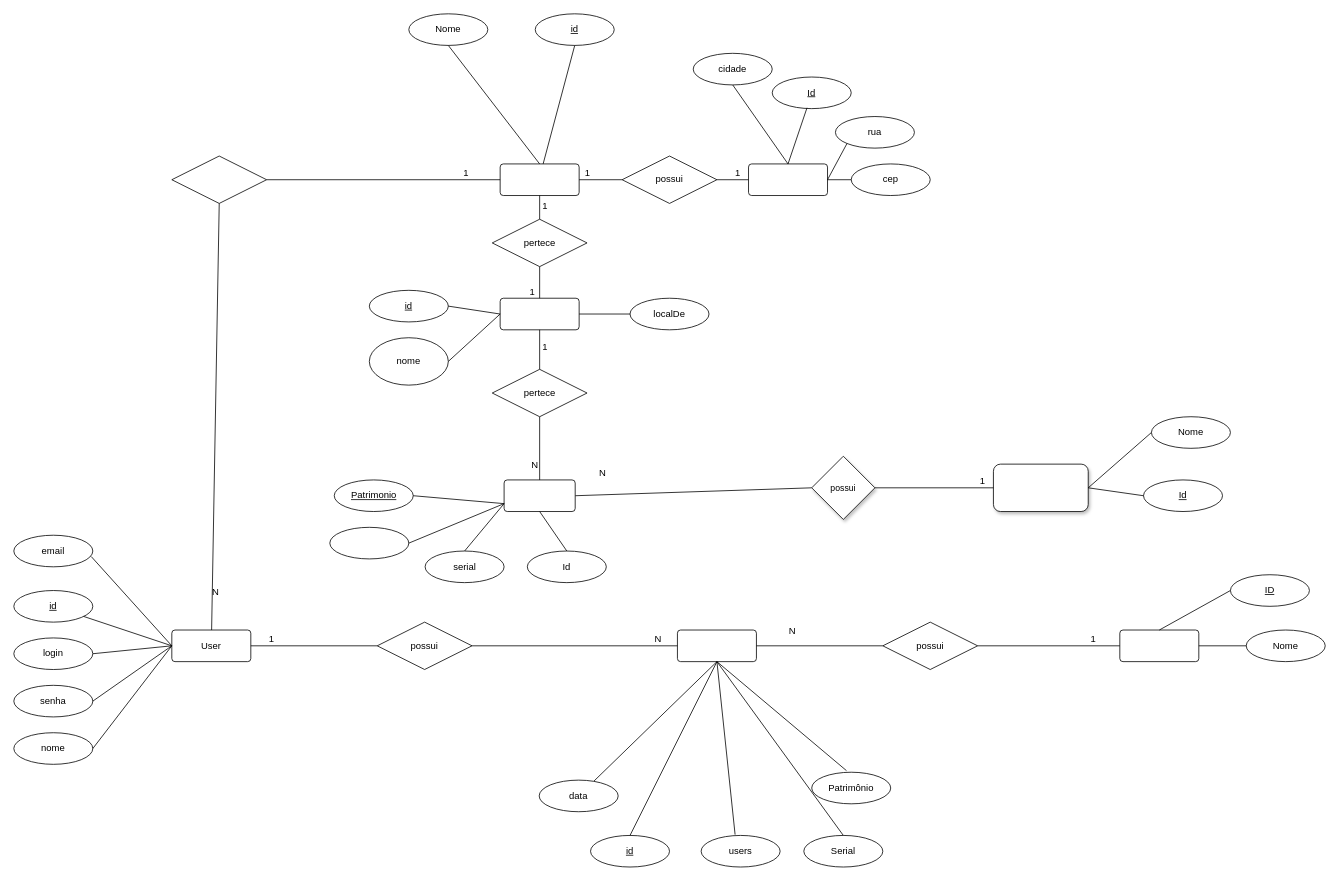
Some shapes in this 1339 by 881 pixel diagram are drawn without their labels. Each missing label, with the centre of its shape:
Ação: the point at 1159,645
Dispositivo: the point at 539,495
Endereço: the point at 788,179
Hostname: the point at 369,543
Local: the point at 539,313
pertence: the point at 219,179
Relatório: the point at 716,645
Site: the point at 539,179
Tipo: the point at 1041,488
